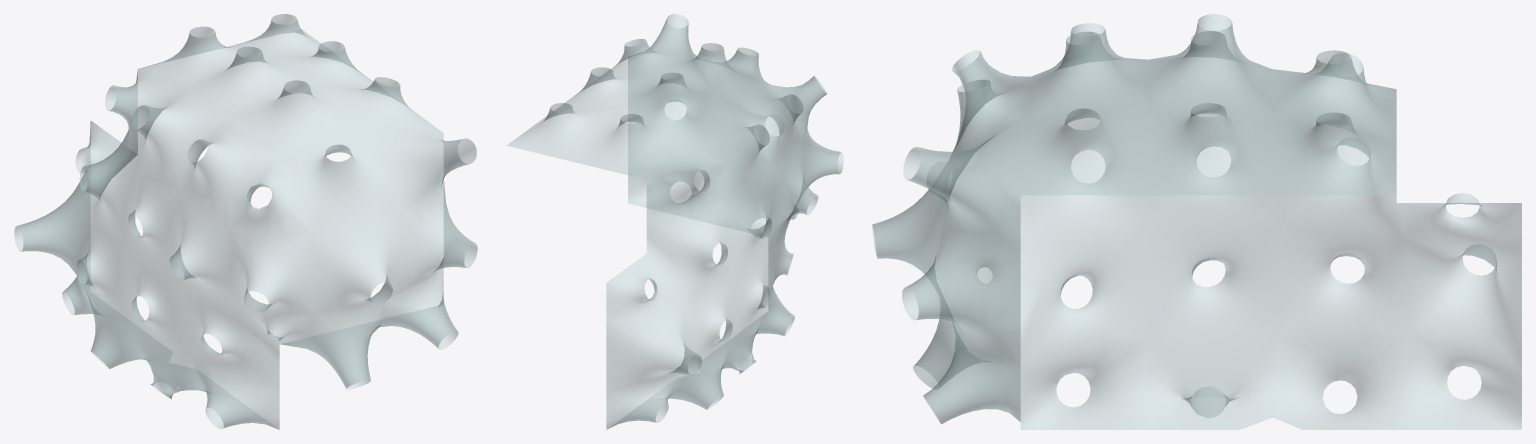
Rendered from sbo-net.obj.
3 renders of one model, left to right at view 1: azimuth 30°, elevation 25°; view 2: azimuth 150°, elevation 25°; view 3: azimuth 270°, elevation 25°, orthographic. The views are drawn at different scales.
Bounding box in the file's own units: 445 × 555 × 747.
